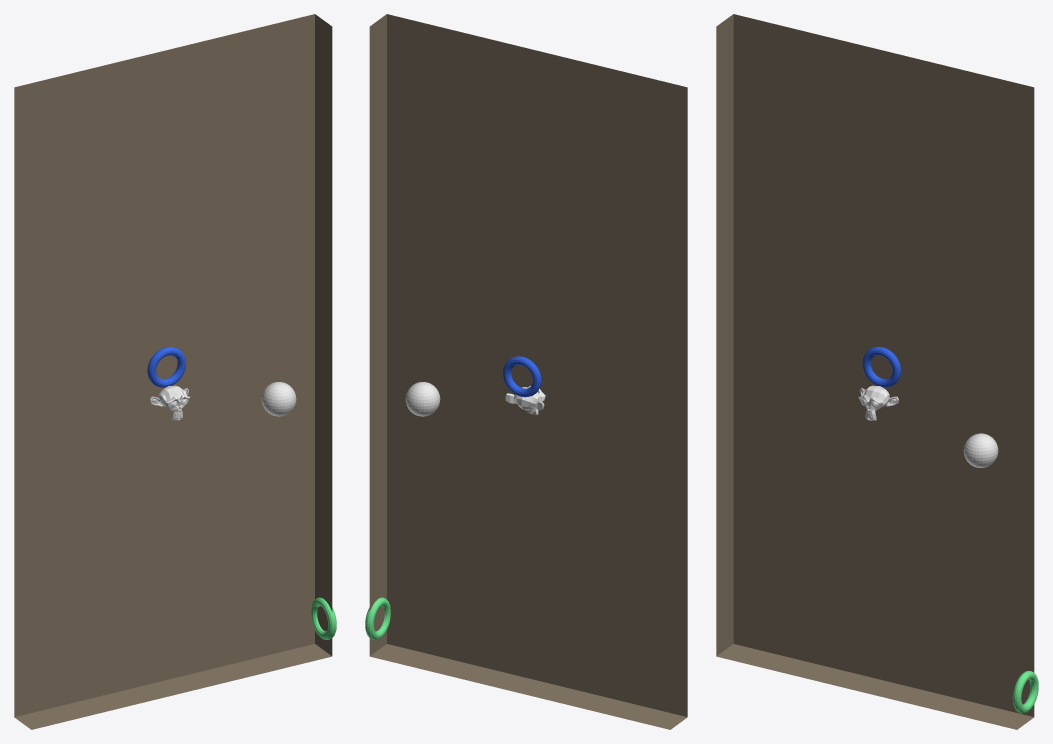
The model's file is Level0.glb.
3 renders of one model, left to right at view 1: azimuth 30°, elevation 25°; view 2: azimuth 150°, elevation 25°; view 3: azimuth 330°, elevation 25°, orthographic.
Visible parts, largest first — view 1: Plane.004, Plane.006, Plane.009, Sphere, spawn.001, Suzanne, destination.001; view 2: Plane.005, Plane.006, Plane.009, Sphere, spawn.001, destination.001, Suzanne; view 3: Plane.004, Plane.007, Plane.009, Sphere, spawn.001, Suzanne, destination.001.
Boxes of the visible parts, <box> form: Plane.004: <box>14,14,314,716</box>; Plane.006: <box>315,14,332,655</box>; Plane.009: <box>14,644,331,729</box>; Sphere: <box>261,382,296,416</box>; spawn.001: <box>147,346,186,387</box>; Suzanne: <box>149,385,190,420</box>; destination.001: <box>311,597,336,639</box>; Plane.005: <box>387,14,687,716</box>; Plane.006: <box>369,14,386,655</box>; Plane.009: <box>370,644,687,729</box>; Sphere: <box>405,382,440,416</box>; spawn.001: <box>502,356,541,397</box>; destination.001: <box>365,597,390,639</box>; Suzanne: <box>505,386,545,414</box>; Plane.004: <box>733,14,1034,716</box>; Plane.007: <box>716,14,733,655</box>; Plane.009: <box>716,644,1033,729</box>; Sphere: <box>963,433,998,467</box>; spawn.001: <box>862,346,901,387</box>; Suzanne: <box>858,385,898,420</box>; destination.001: <box>1012,671,1038,713</box>.
Bounding box in the file's own units: 20.25 × 40 × 2.5.
